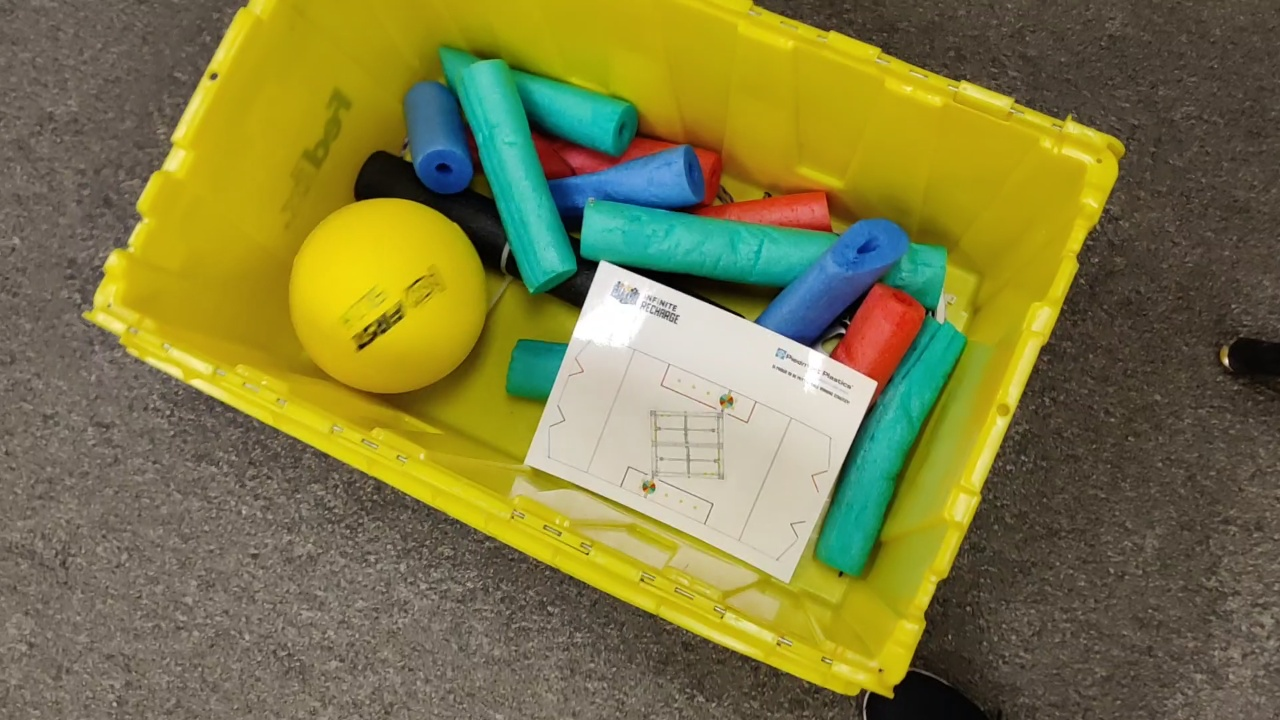Ball: (296, 200, 489, 391)
